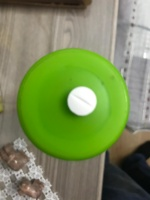Arveles: (65, 85, 98, 117)
